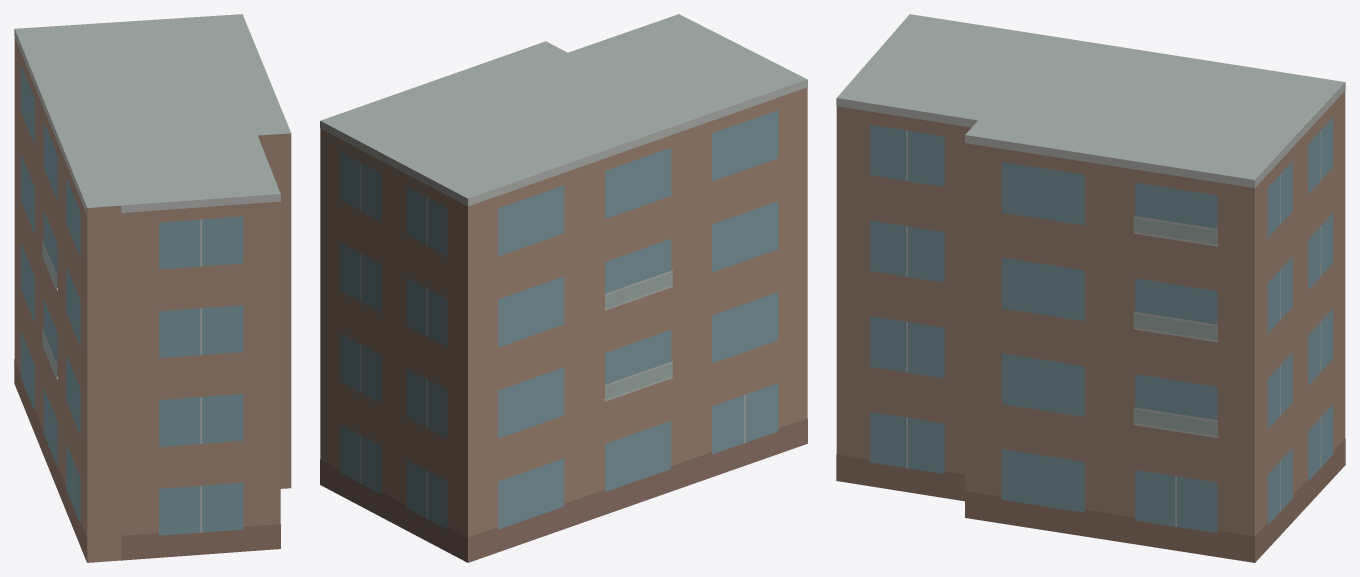
File: survey-upis-32515366.glb
3 renders of one model, left to right at view 1: azimuth 30°, elevation 25°; view 2: azimuth 150°, elevation 25°; view 3: azimuth 270°, elevation 25°, orthographic. The views are drawn at different scales.
Visible parts, largest first — view 1: survey-upis-32515366.tmp; view 2: survey-upis-32515366.tmp; view 3: survey-upis-32515366.tmp.
Part boxes in pixels (<box>): survey-upis-32515366.tmp: <box>14,14,291,562</box>; survey-upis-32515366.tmp: <box>320,14,807,562</box>; survey-upis-32515366.tmp: <box>836,14,1345,562</box>.
Bounding box in the file's own units: 10.7 × 11.5 × 13.87.
